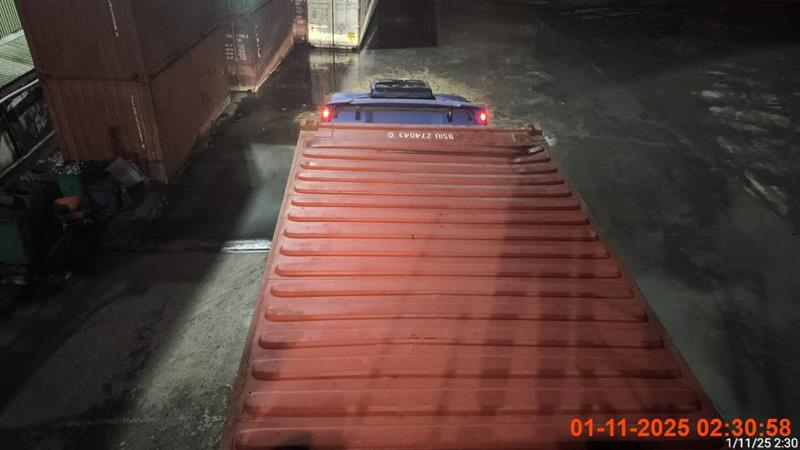broken: (218, 78, 726, 442)
